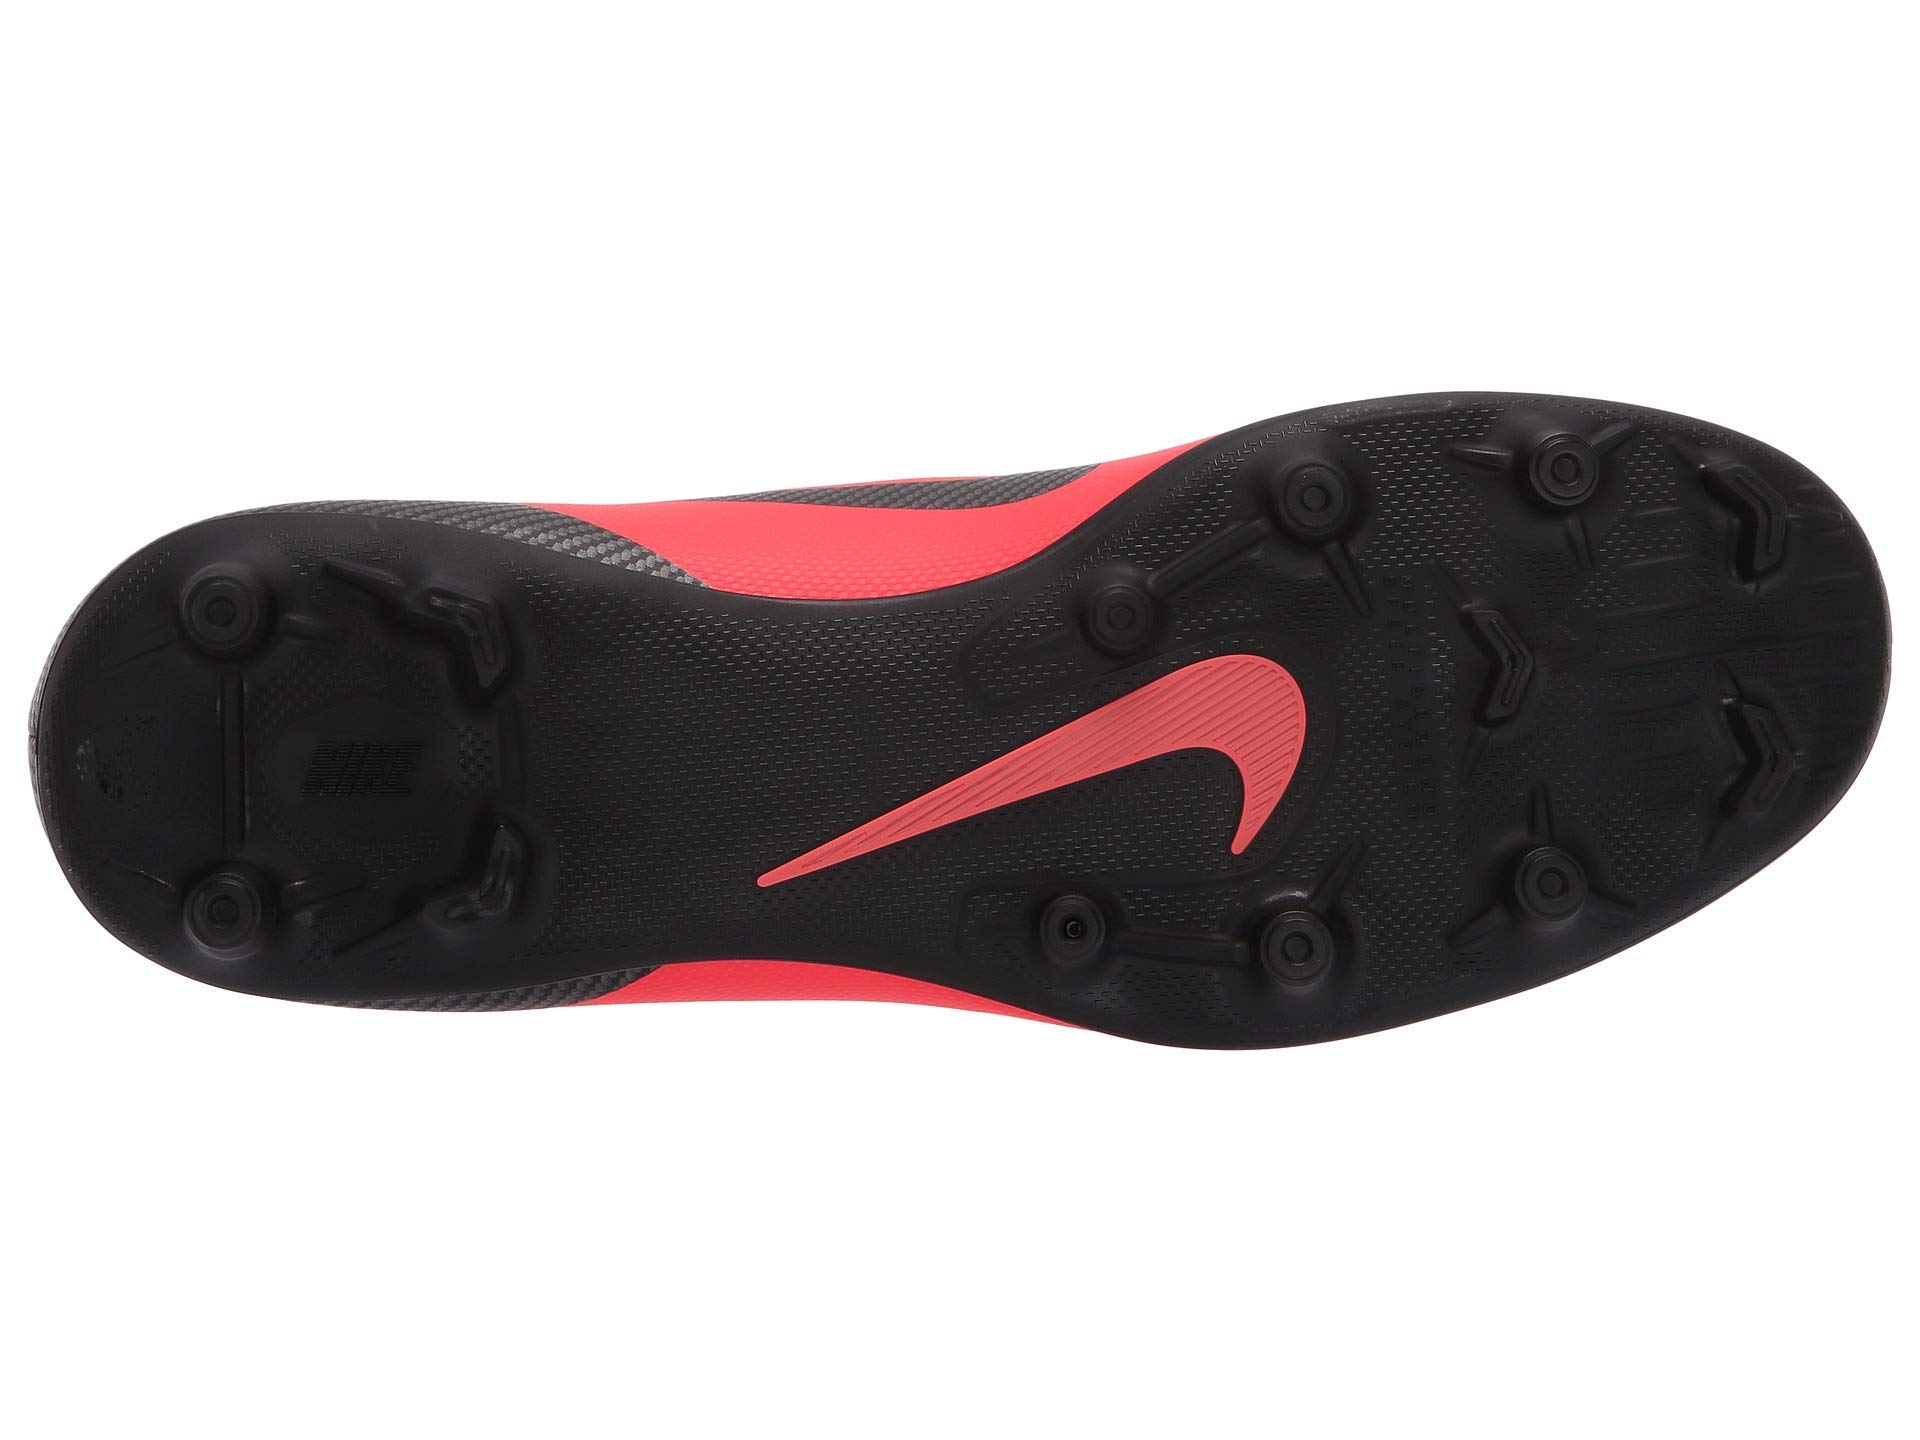chevron: (715, 593, 1339, 1024), (178, 538, 550, 980), (1268, 436, 1627, 790), (1674, 434, 1843, 607)
circle: (715, 593, 1339, 1024), (178, 538, 550, 980), (1268, 436, 1627, 790)
line: (715, 593, 1339, 1024)
